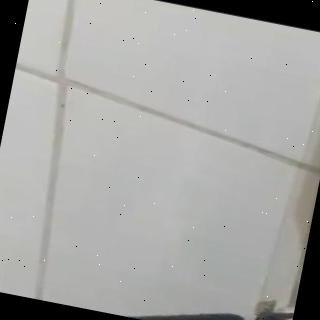fire: (144, 194, 311, 320)
